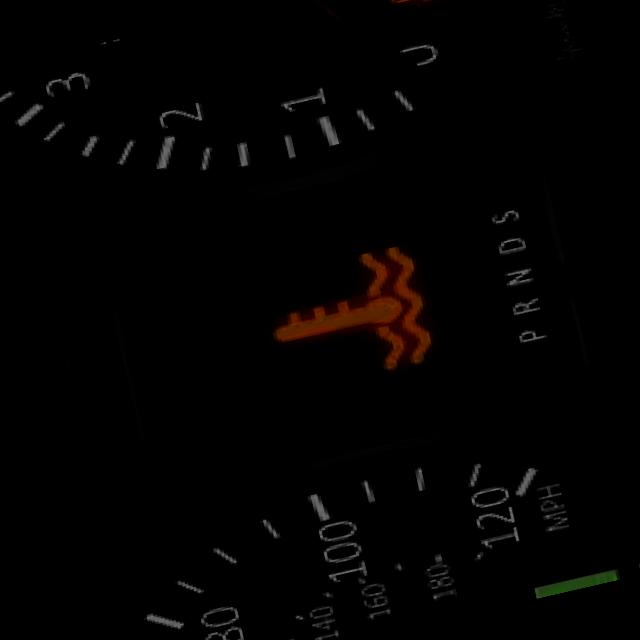kontrolka: (246, 224, 456, 416)
